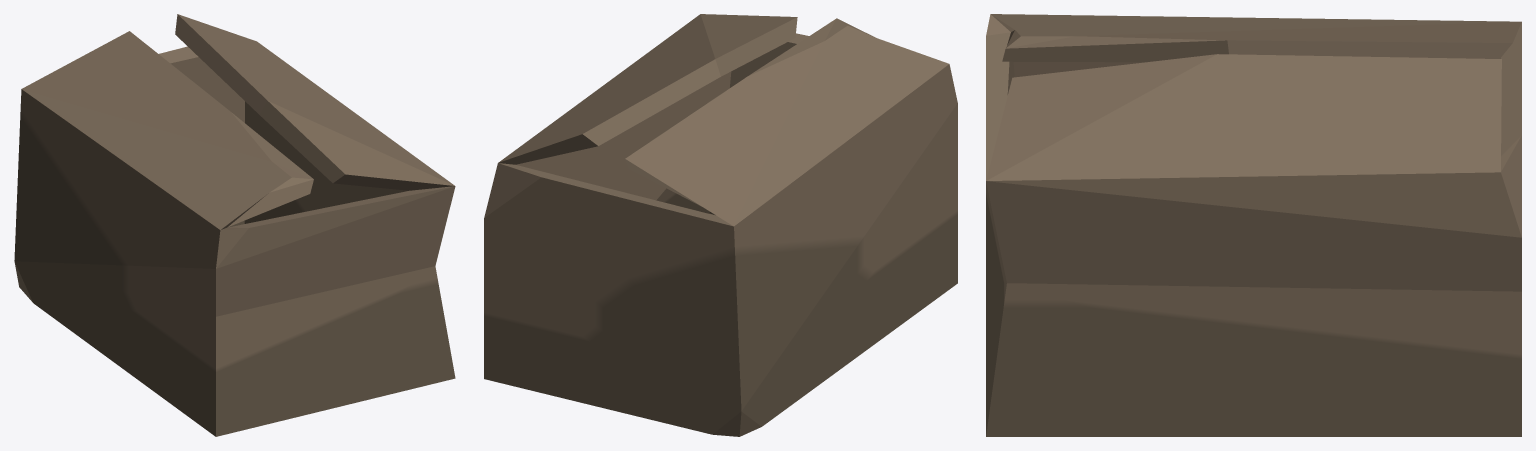
The model's file is SM_Prop_Cardboard_Box_06.glb.
The picture shows the model from 3 angles, left to right: view 1: azimuth 30°, elevation 25°; view 2: azimuth 150°, elevation 25°; view 3: azimuth 270°, elevation 25°; orthographic projection. The views are drawn at different scales.
Parts seen in each view (by area): view 1: SM_Prop_Cardboard_Box_06; view 2: SM_Prop_Cardboard_Box_06; view 3: SM_Prop_Cardboard_Box_06.
Part boxes in pixels (x1,y1,x2,y2): SM_Prop_Cardboard_Box_06: (14, 14, 455, 436); SM_Prop_Cardboard_Box_06: (484, 14, 957, 436); SM_Prop_Cardboard_Box_06: (986, 14, 1521, 436).
Size of the model in its own units: 0.5 by 0.4847 by 0.7282.
Materials: 1 (1 with a texture image).
